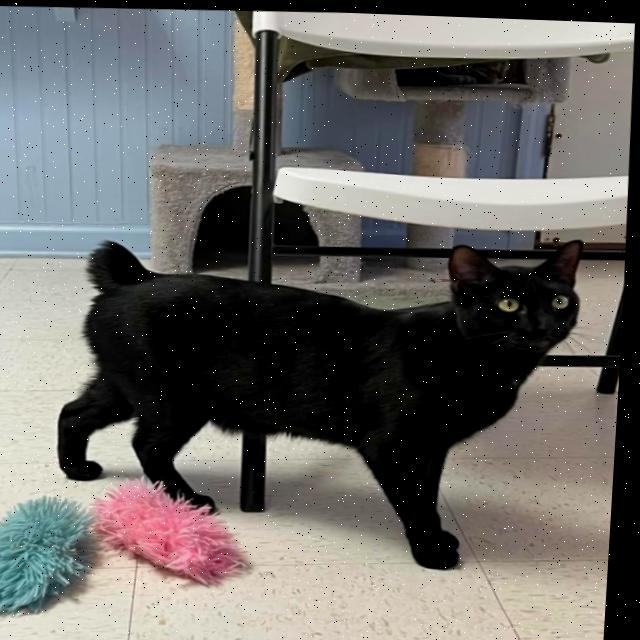American Bobtail: (46, 215, 601, 584)
